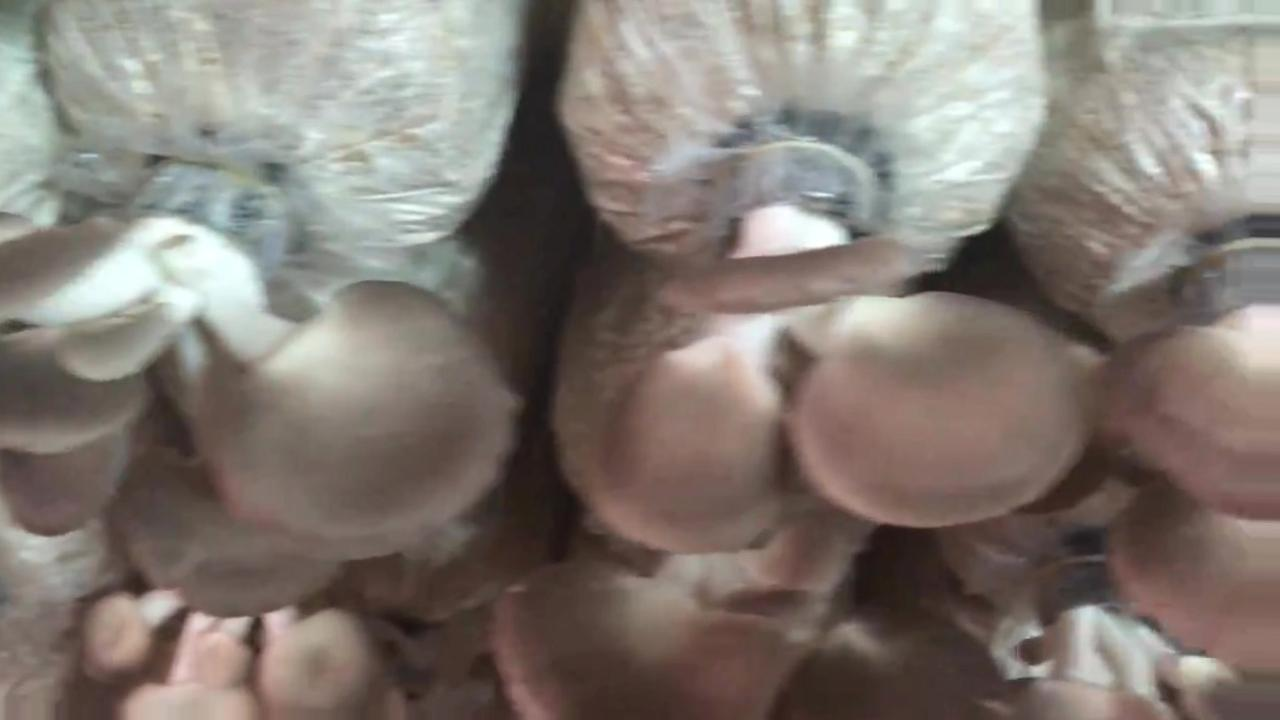nam: (1, 170, 517, 616), (592, 139, 1095, 550), (506, 553, 788, 720), (1002, 552, 1280, 718), (1132, 217, 1280, 511), (82, 596, 377, 720), (1107, 480, 1280, 667)
